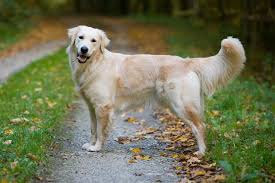dog: (50, 14, 124, 68)
